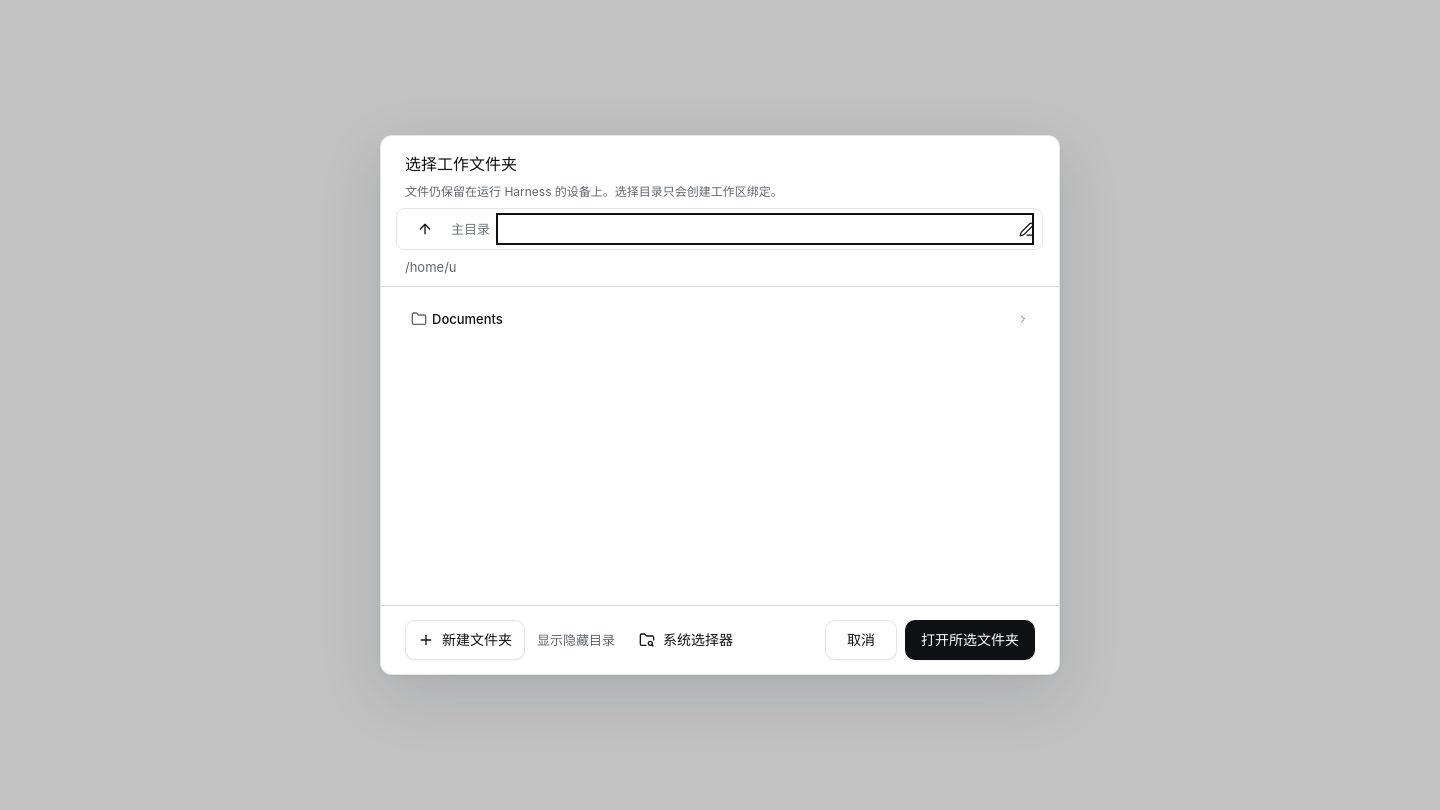
Test: DirectoryBrowser navigation › keeps the Web directory browser available beside a failing native picker
The image size is (1440, 810).
Expected: the button "打开所选文件夹" is enabled, [905,620,1035,660]
Click the button "系统选择器": {"x": 686, "y": 640} [627,620,745,660]
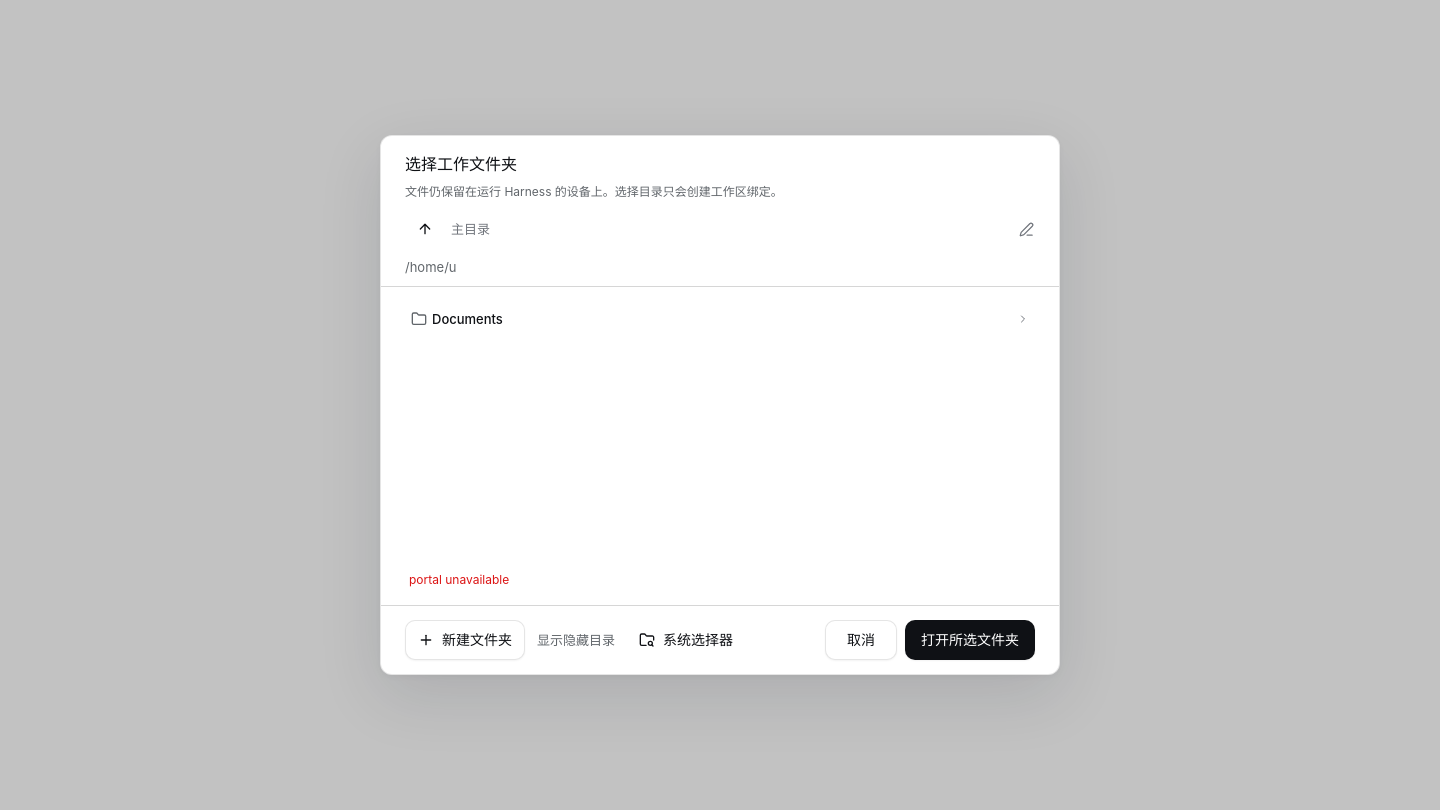
Expected: the button "打开所选文件夹" is enabled, [905,620,1035,660]
Expected: the message "portal unavailable" is shown, [409,572,509,587]
